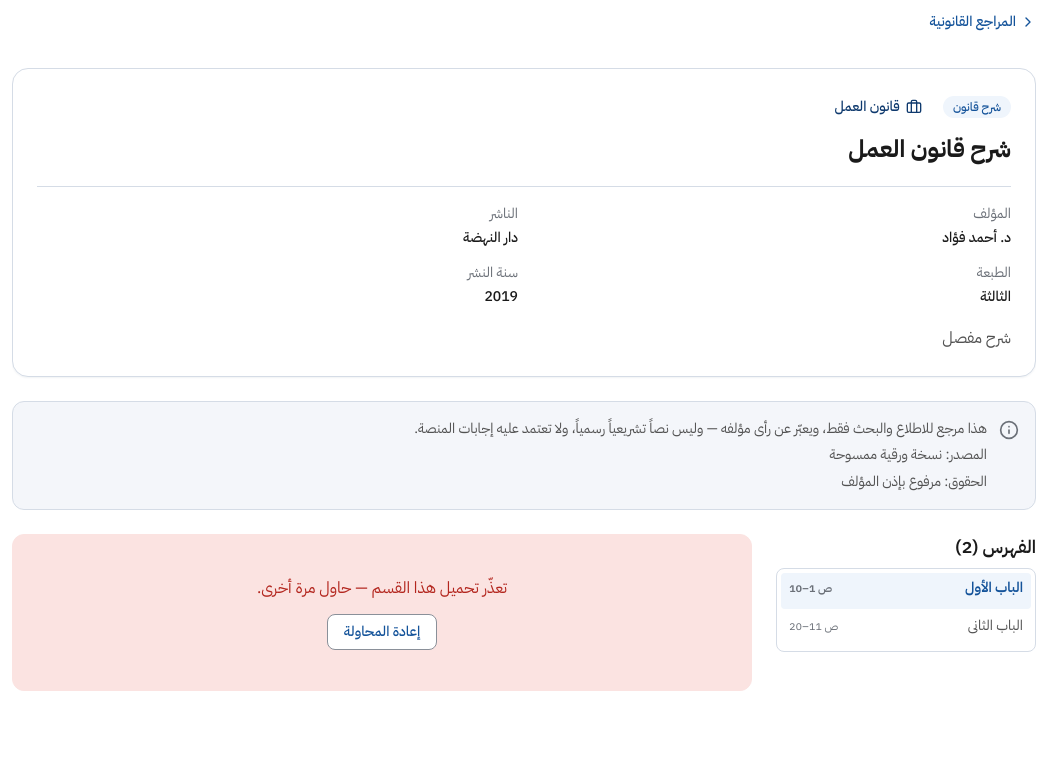
Test: ReferenceDetailScreen › فشل تحميل قسم يُظهر خطأً مع إعادة محاولة تنجح
Expected: the message shows "تعذّر تحميل هذا القسم", x1=257 y1=576 x2=507 y2=600
Click the button "إعادة المحاولة" at (382, 632), box x1=327 y1=614 x2=437 y2=650
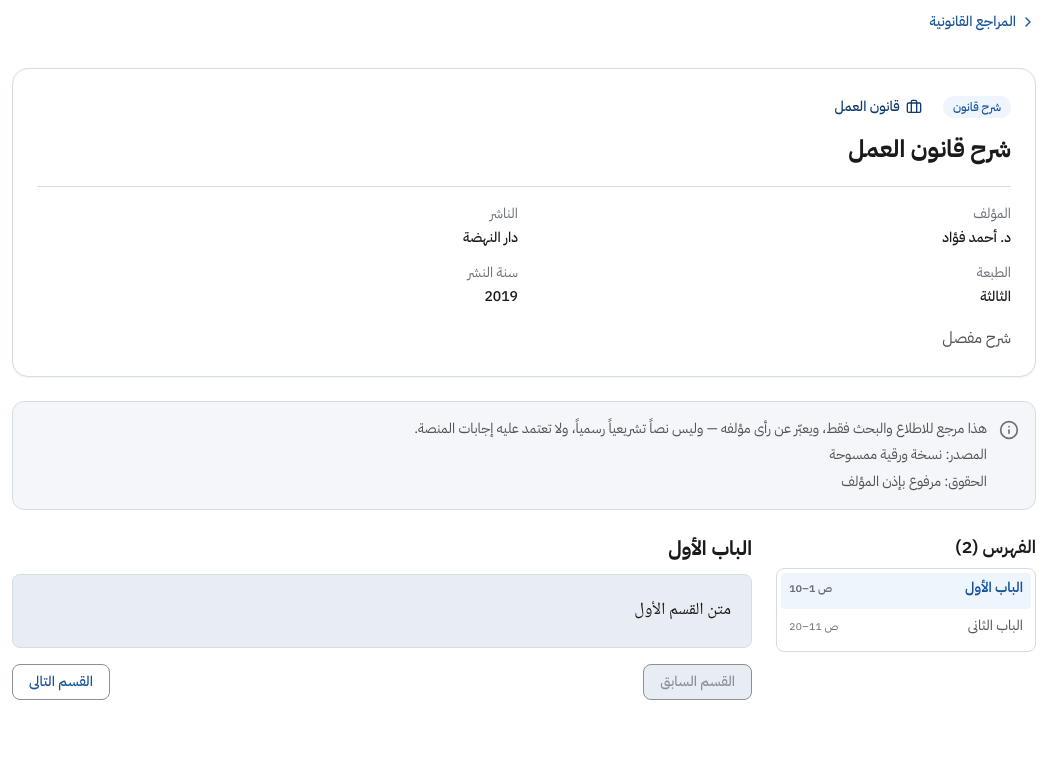
Result: the text "متن القسم الأول" is shown at x1=12 y1=574 x2=752 y2=648
